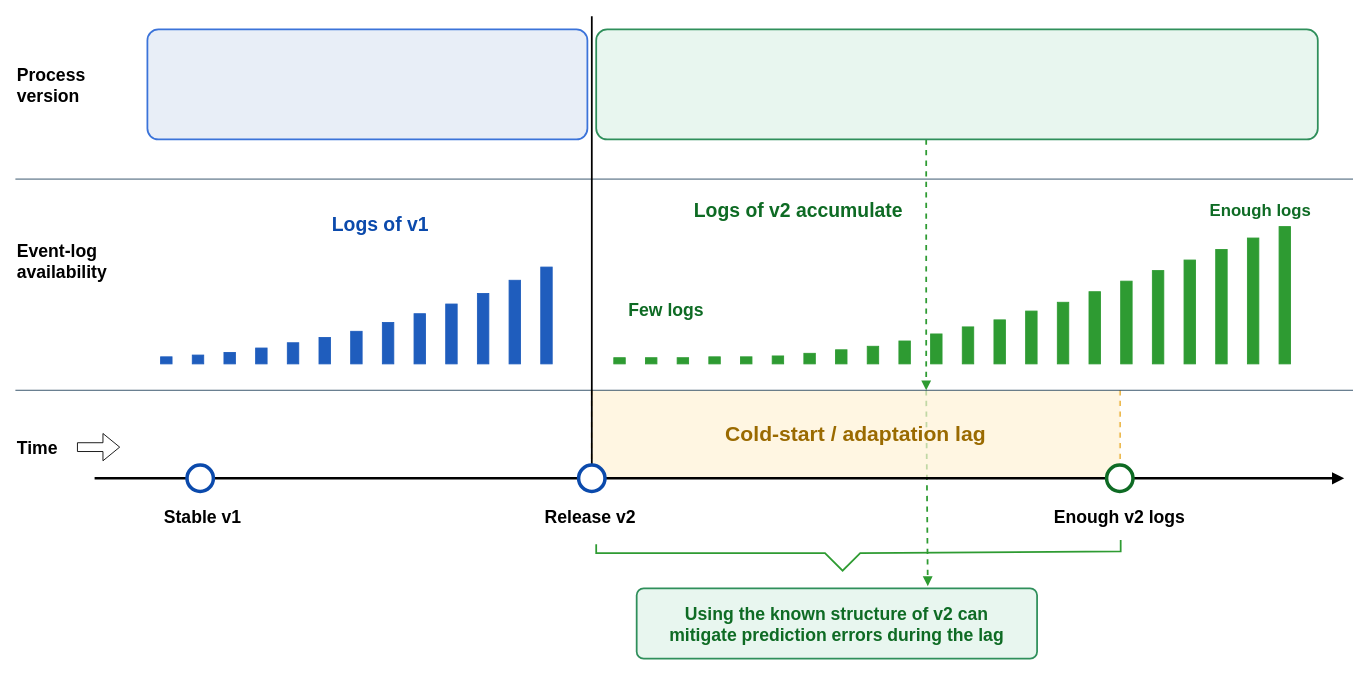
This 1369x674 diagram has some shape labels left out. Here are the shapes that lost their labels. From the top down, the centre of each, then its label:
At point (367, 84): "Stable version v1".
At point (956, 84): "Structure of version v2 is already known".
